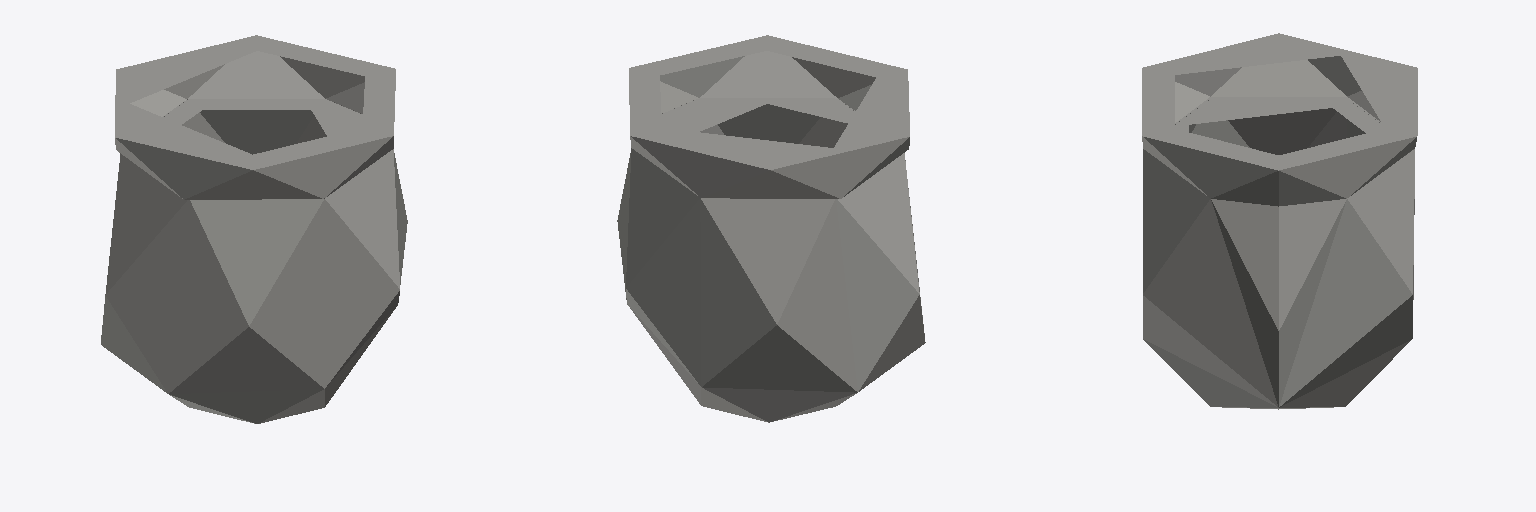
3 views of the same model, side by side, from view 1: azimuth 30°, elevation 25°; view 2: azimuth 150°, elevation 25°; view 3: azimuth 270°, elevation 25° (orthographic).
Parts seen in each view (by area): view 1: Regroup13; view 2: Regroup13; view 3: Regroup13.
Part boxes in pixels (x1,y1,x2,y2): Regroup13: (101,35,407,423); Regroup13: (617,35,925,422); Regroup13: (1142,33,1417,409).
Bounding box in the file's own units: 13.3 × 12.9 × 10.47.
1 materials, 1 textured.